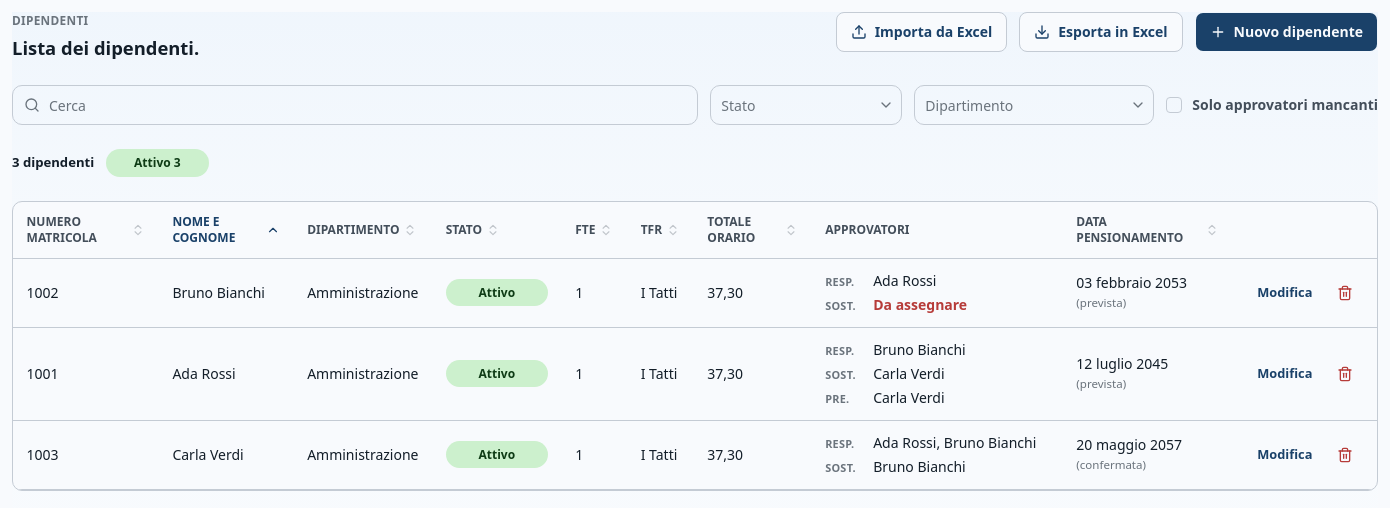
Test: the directory count › says how much of the directory a filter is hiding
Check: the cell "Ada Rossi" is shown, box left=159, top=327, right=294, bottom=420
Click the checkbox named "Solo approvatori mancanti".
click(1174, 105)  # box left=1166, top=97, right=1182, bottom=113
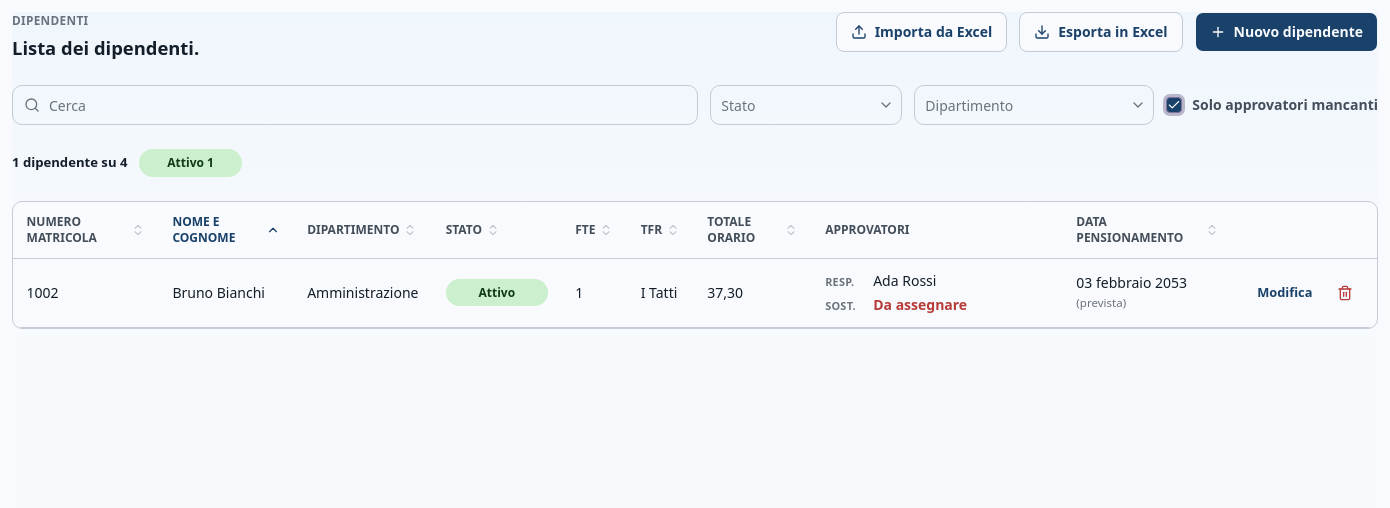
Check: the text "1 dipendente su 4" is shown, box left=12, top=153, right=127, bottom=173
Click the checkbox named "Solo approvatori mancanti".
click(1174, 105)  # box left=1166, top=97, right=1182, bottom=113
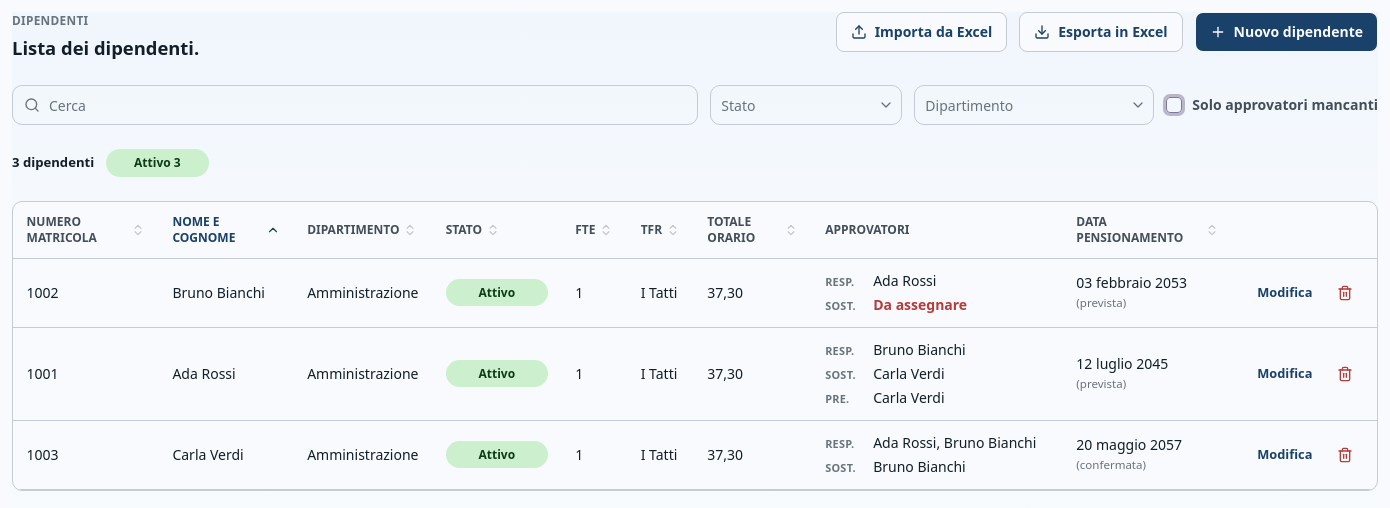
Check: the text "3 dipendenti" is shown, box left=12, top=153, right=94, bottom=173
